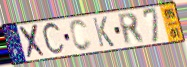7: (141, 7, 161, 45)
C: (41, 20, 66, 59), (68, 18, 93, 52)
K: (91, 16, 116, 49)
R: (116, 12, 147, 47)
X: (18, 23, 48, 61)
